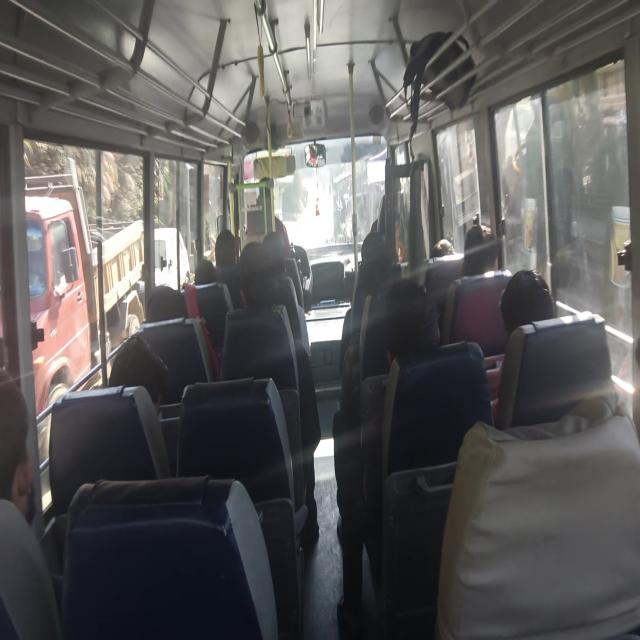person: (220, 241, 321, 544), (0, 378, 61, 638), (484, 268, 556, 425), (339, 210, 406, 372), (109, 334, 170, 414), (0, 378, 34, 520), (499, 268, 555, 338), (460, 224, 500, 277), (214, 228, 238, 268), (430, 238, 454, 257)
